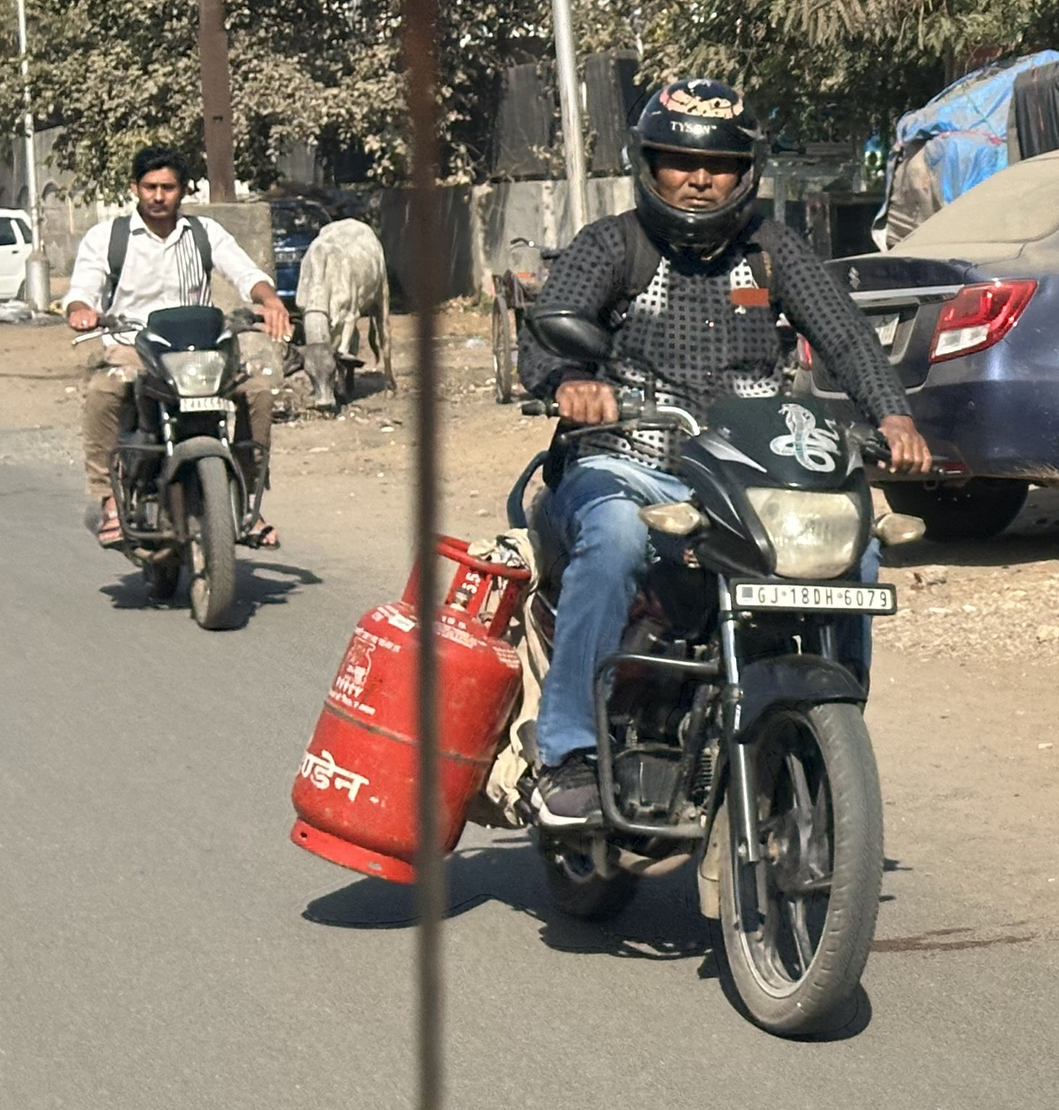BikeWithRider: (302, 20, 947, 1028), (49, 128, 351, 633)
Helmet: (624, 70, 784, 272)
NoHelmet: (120, 144, 201, 233)
